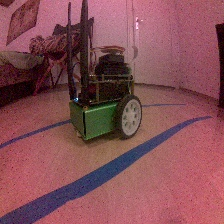rob: (67, 52, 142, 141)
